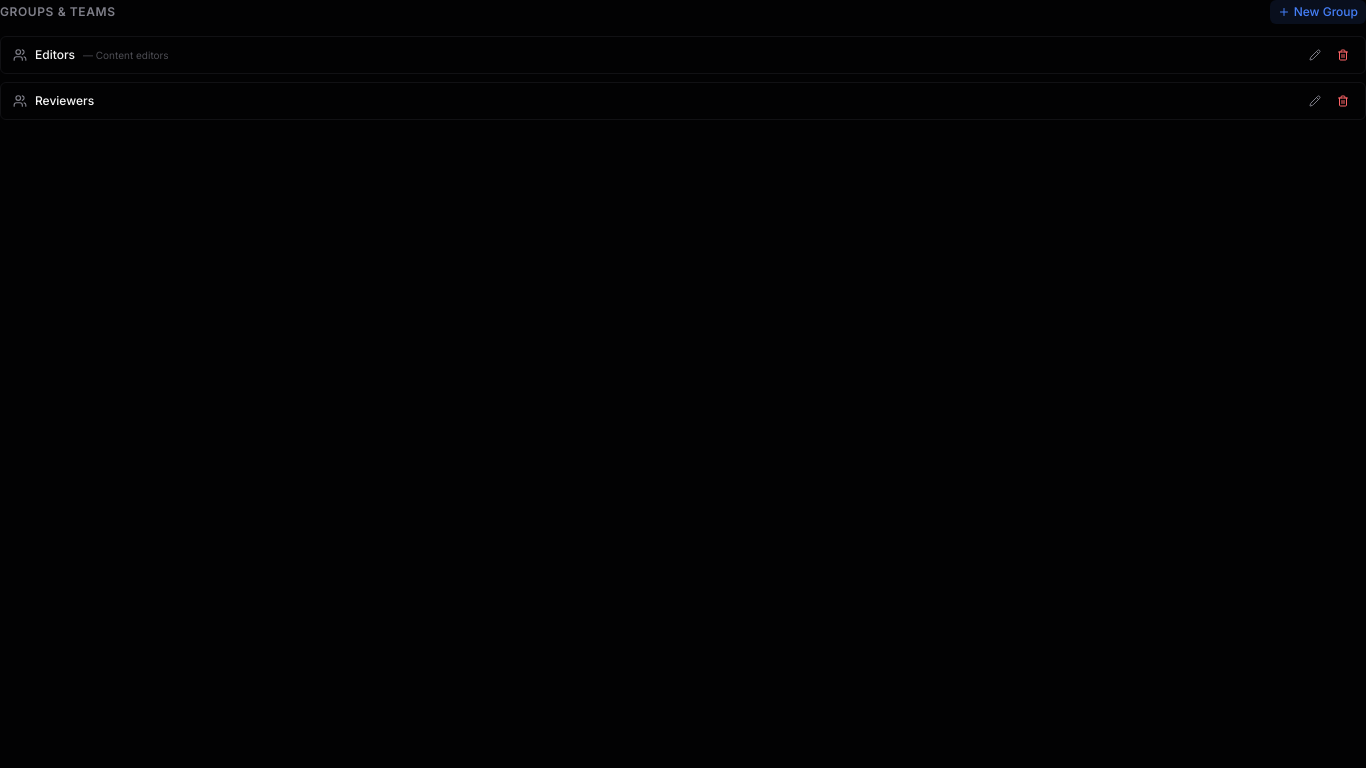
it: GroupsPanel › opens edit dialog with pre-filled data
Check: the text "Editors" is shown, box [35,47,75,63]
Step 1. Click the 3rd button → [1315, 55], box [1305,45,1325,65]
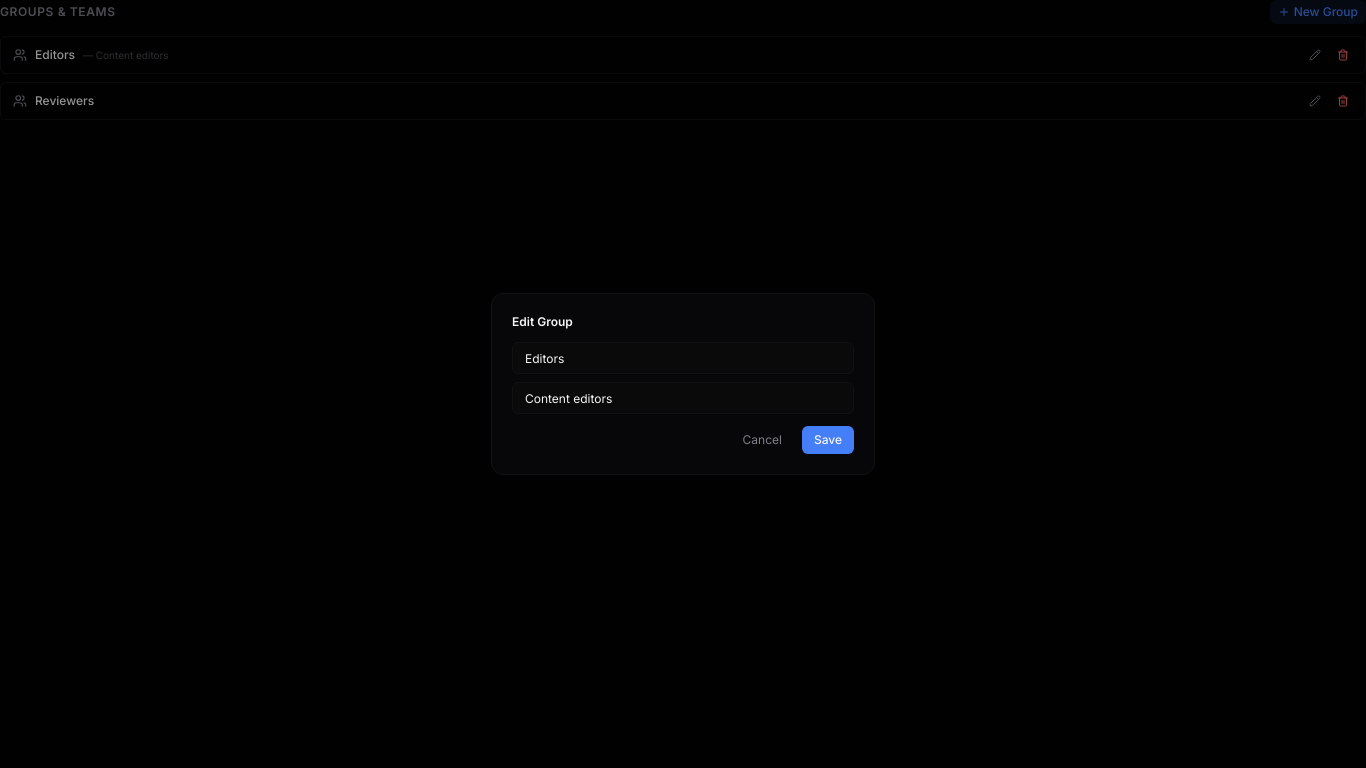
Check: the heading "Edit Group" is shown, box [512,314,573,329]
Check: the 1st field with placeholder "Group name" holds "Editors", box [512,342,854,374]
Check: the 2nd field with placeholder "Description (optional)" holds "Content editors", box [512,382,854,414]
